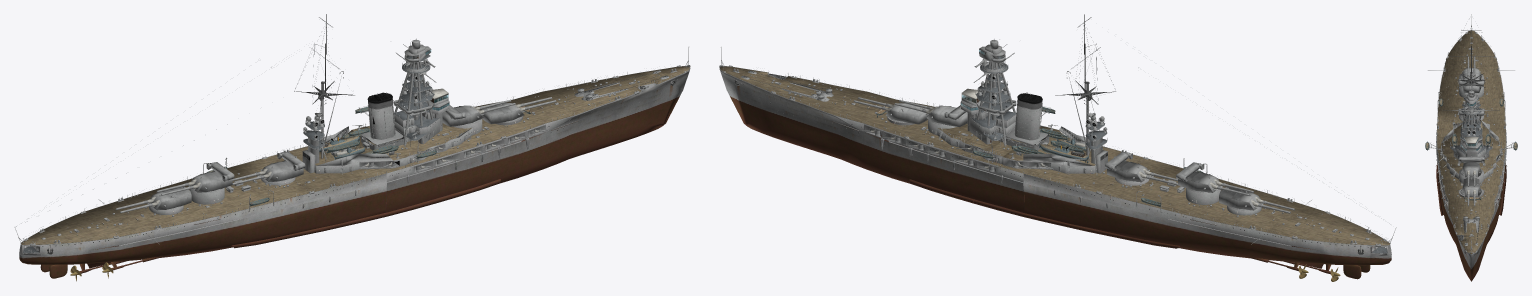
The model's file is ijn_tosa_free_model_1920_japanese_battleship-maximum-compressed.glb.
3 renders of one model, left to right at view 1: azimuth 30°, elevation 25°; view 2: azimuth 150°, elevation 25°; view 3: azimuth 270°, elevation 25°, orthographic. The views are drawn at different scales.
Parts seen in each view (by area): view 1: G-modelNew_193_101, G-modelNew_192_96, G-modelNew_191_95, G-modelNew_174_129, G-modelNew_177_109, G-modelNew_187_106, G-modelNew_179_121, G-modelNew_25_177, G-modelNew_183_68, G-modelNew_185_113, G-modelNew_181_91; view 2: G-modelNew_193_101, G-modelNew_192_96, G-modelNew_191_95, G-modelNew_174_129, G-modelNew_187_106, G-modelNew_179_121, G-modelNew_177_109, G-modelNew_183_68, G-modelNew_185_113, G-modelNew_25_177, G-modelNew_181_91, G-modelNew_176_102 (+1 smaller); view 3: G-modelNew_192_96, G-modelNew_193_101, G-modelNew_191_95, G-modelNew_183_68, G-modelNew_177_109, G-modelNew_174_129, G-modelNew_181_91, G-modelNew_187_106, G-modelNew_25_177, G-modelNew_176_102, G-modelNew_185_113, G-modelNew_80_8 (+7 smaller).
Boxes of the visible parts, <box> form: G-modelNew_193_101: <box>19,73,674,273</box>; G-modelNew_192_96: <box>19,66,689,270</box>; G-modelNew_191_95: <box>302,44,472,173</box>; G-modelNew_174_129: <box>21,54,683,253</box>; G-modelNew_177_109: <box>14,44,688,253</box>; G-modelNew_187_106: <box>188,162,234,192</box>; G-modelNew_179_121: <box>259,151,305,181</box>; G-modelNew_25_177: <box>32,75,659,242</box>; G-modelNew_183_68: <box>442,101,484,126</box>; G-modelNew_185_113: <box>147,186,191,210</box>; G-modelNew_181_91: <box>481,103,525,124</box>; G-modelNew_193_101: <box>735,79,1391,274</box>; G-modelNew_192_96: <box>719,66,1391,270</box>; G-modelNew_191_95: <box>937,44,1107,173</box>; G-modelNew_174_129: <box>729,55,1388,253</box>; G-modelNew_187_106: <box>1176,162,1222,192</box>; G-modelNew_179_121: <box>1105,151,1151,182</box>; G-modelNew_177_109: <box>721,44,1396,253</box>; G-modelNew_183_68: <box>925,102,967,126</box>; G-modelNew_185_113: <box>1219,187,1263,210</box>; G-modelNew_25_177: <box>750,75,1381,240</box>; G-modelNew_181_91: <box>885,103,929,124</box>; G-modelNew_176_102: <box>1038,14,1115,106</box>; G-modelNew_192_96: <box>1436,120,1506,281</box>; G-modelNew_193_101: <box>1436,30,1506,253</box>; G-modelNew_191_95: <box>1441,94,1501,179</box>; G-modelNew_183_68: <box>1458,155,1484,177</box>; G-modelNew_177_109: <box>1428,14,1514,252</box>; G-modelNew_174_129: <box>1441,30,1501,250</box>; G-modelNew_181_91: <box>1460,177,1482,196</box>; G-modelNew_187_106: <box>1458,77,1484,92</box>; G-modelNew_25_177: <box>1437,33,1505,243</box>; G-modelNew_176_102: <box>1449,26,1493,87</box>; G-modelNew_185_113: <box>1460,68,1482,79</box>; G-modelNew_80_8: <box>1460,114,1482,253</box>.
Size of the model in its own units: 233 by 65.17 by 38.74.
26 materials, 24 textured.
